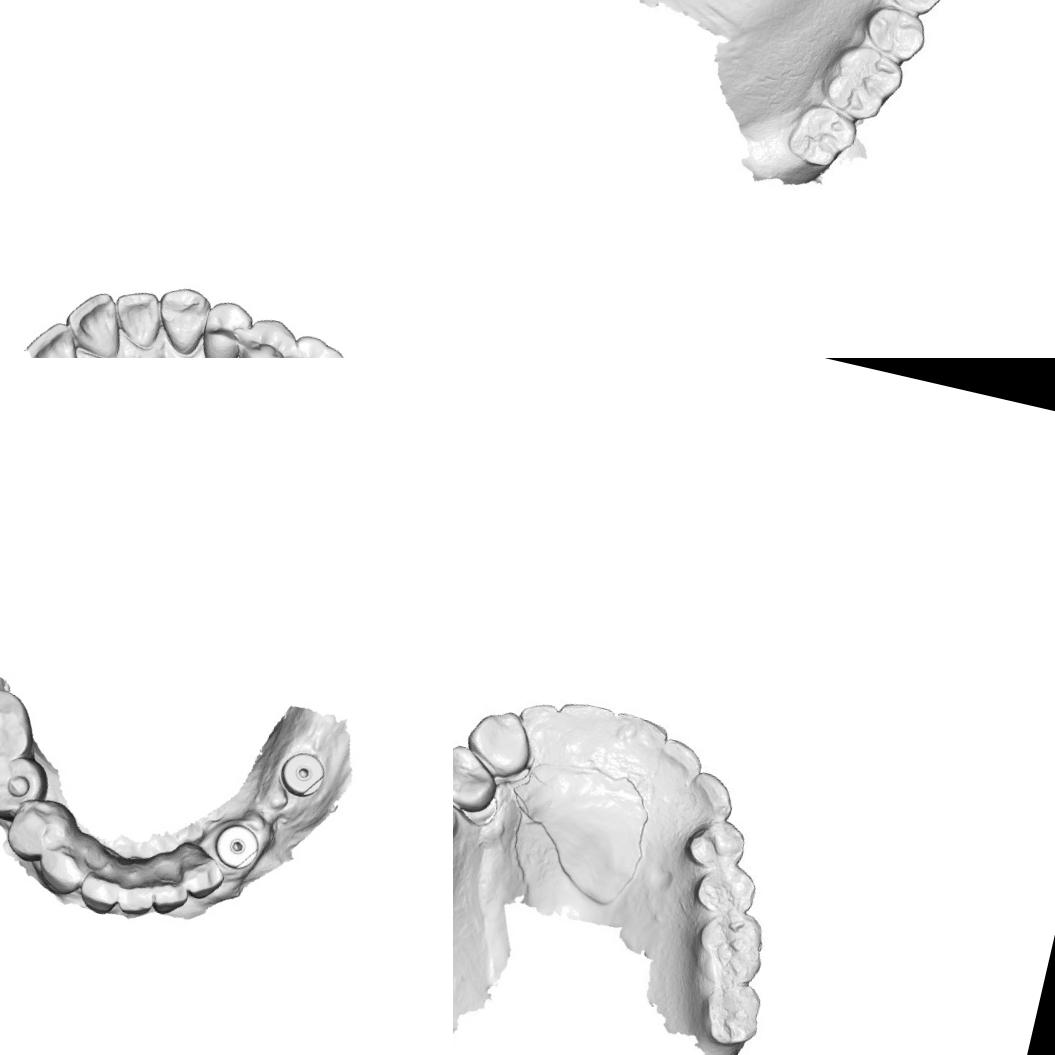canine: (461, 702, 536, 779), (147, 281, 214, 358), (34, 836, 90, 896), (684, 769, 739, 825)
implant: (278, 745, 331, 805), (212, 820, 264, 874)
incisor: (58, 285, 132, 358), (556, 696, 626, 763), (607, 708, 674, 771), (104, 285, 166, 353), (17, 315, 93, 358), (515, 698, 568, 755), (654, 735, 708, 786), (176, 848, 226, 902), (75, 863, 124, 918), (114, 870, 161, 920), (148, 869, 190, 917)
molar: (820, 39, 911, 130), (689, 906, 770, 998), (780, 94, 866, 179), (0, 678, 43, 786), (698, 978, 766, 1046), (0, 747, 53, 825), (271, 330, 356, 358)
premolar: (0, 791, 73, 867), (862, 0, 933, 68), (683, 812, 750, 875), (692, 861, 760, 919), (194, 296, 255, 358), (453, 737, 502, 807), (235, 313, 301, 358), (878, 0, 946, 20)
